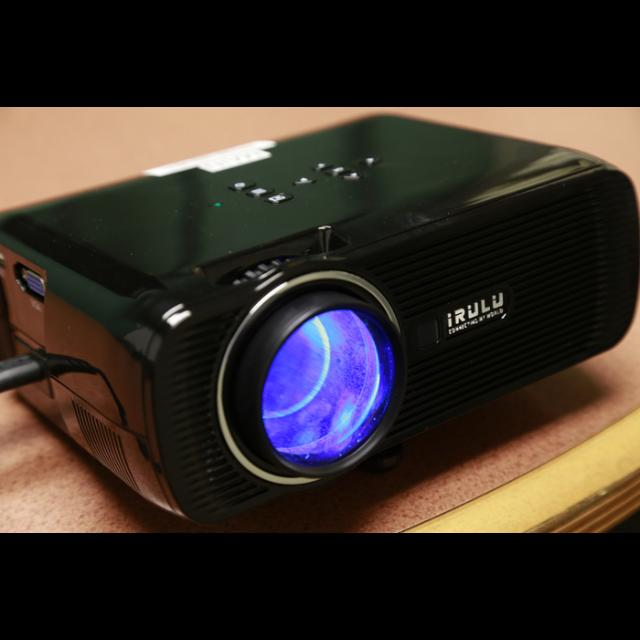Projector: (6, 108, 640, 532)
